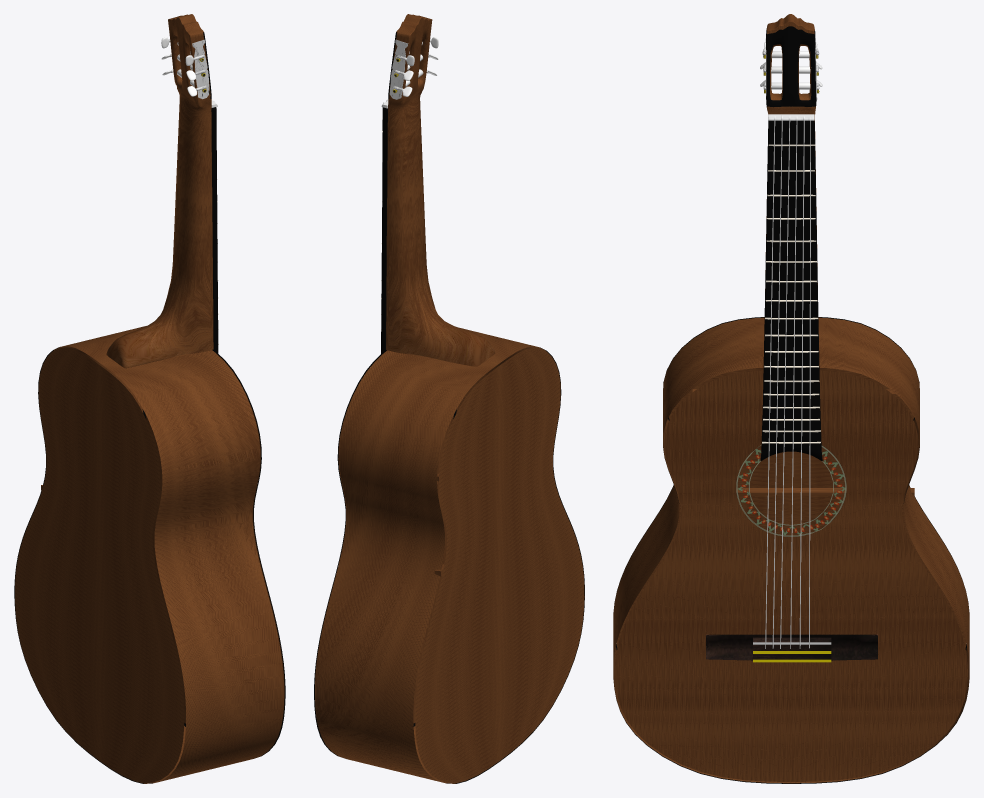
File: guitar-compressed.glb
3 renders of one model, left to right at view 1: azimuth 30°, elevation 25°; view 2: azimuth 150°, elevation 25°; view 3: azimuth 270°, elevation 25°, orthographic. The views are drawn at different scales.
Visible parts, largest first — view 1: Plane, Plane004, Plane003, Cylinder008; view 2: Plane, Plane004, Plane003, Cylinder008; view 3: Plane, Plane003, Plane004, Plane001, Cube003, Plane002, Cube001, Circle004, Circle003, Circle001, Circle, Circle002 (+1 smaller).
Part boxes in pixels (x1,y1,x2,y2): Plane: [14, 326, 285, 783]; Plane004: [106, 14, 213, 368]; Plane003: [211, 107, 218, 353]; Cylinder008: [169, 39, 209, 99]; Plane: [314, 328, 584, 783]; Plane004: [386, 14, 495, 366]; Plane003: [381, 107, 387, 353]; Cylinder008: [389, 39, 431, 99]; Plane: [613, 317, 969, 783]; Plane003: [760, 120, 822, 461]; Plane004: [765, 14, 817, 291]; Plane001: [706, 634, 877, 660]; Cube003: [762, 144, 820, 443]; Plane002: [753, 637, 831, 662]; Cube001: [736, 488, 914, 495]; Circle004: [799, 115, 804, 648]; Circle003: [790, 115, 797, 648]; Circle001: [772, 115, 782, 648]; Circle: [765, 115, 775, 648]; Circle002: [780, 115, 790, 648].
Size of the model in its own units: 0.1713 by 1.09 by 0.4644.
13 materials, 6 textured.
